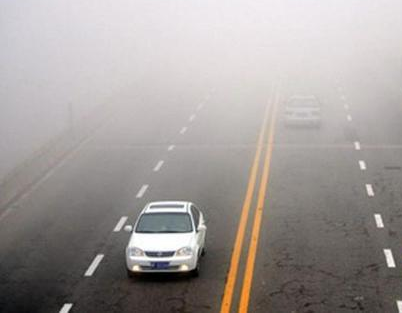car: (123, 199, 206, 278), (280, 92, 324, 126)
